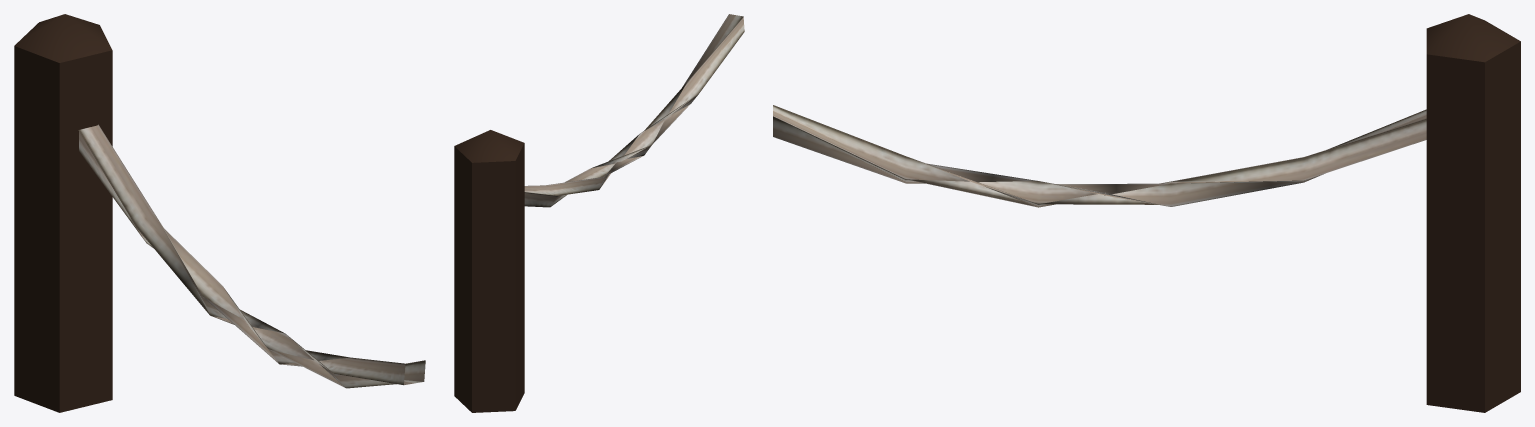
The model's file is LoveDeath_Fence_Art.fbx.
3 renders of one model, left to right at view 1: azimuth 30°, elevation 25°; view 2: azimuth 150°, elevation 25°; view 3: azimuth 270°, elevation 25°, orthographic. The views are drawn at different scales.
Parts seen in each view (by area): view 1: LoveDeath_Fence_Art; view 2: LoveDeath_Fence_Art; view 3: LoveDeath_Fence_Art.
Boxes of the visible parts, <box> form: LoveDeath_Fence_Art: <box>14,14,425,412</box>; LoveDeath_Fence_Art: <box>454,14,744,412</box>; LoveDeath_Fence_Art: <box>773,14,1520,412</box>.
Bounding box in the file's own units: 26.52 × 112 × 200.
